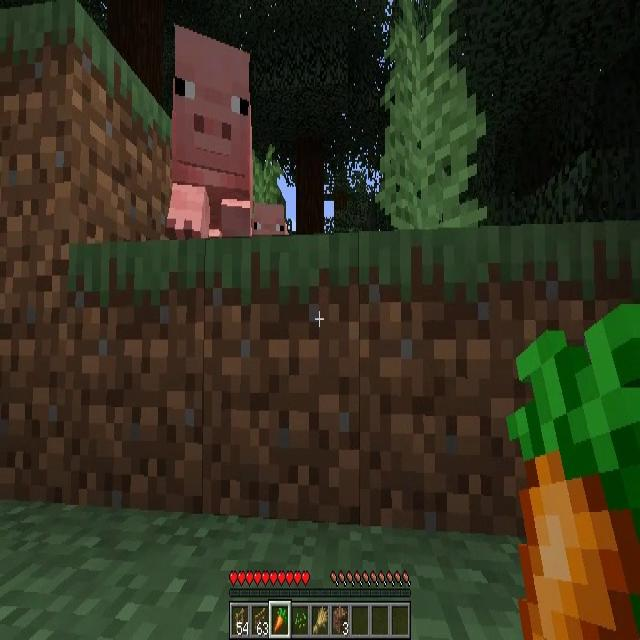pig: (163, 24, 251, 240), (251, 204, 286, 236)
